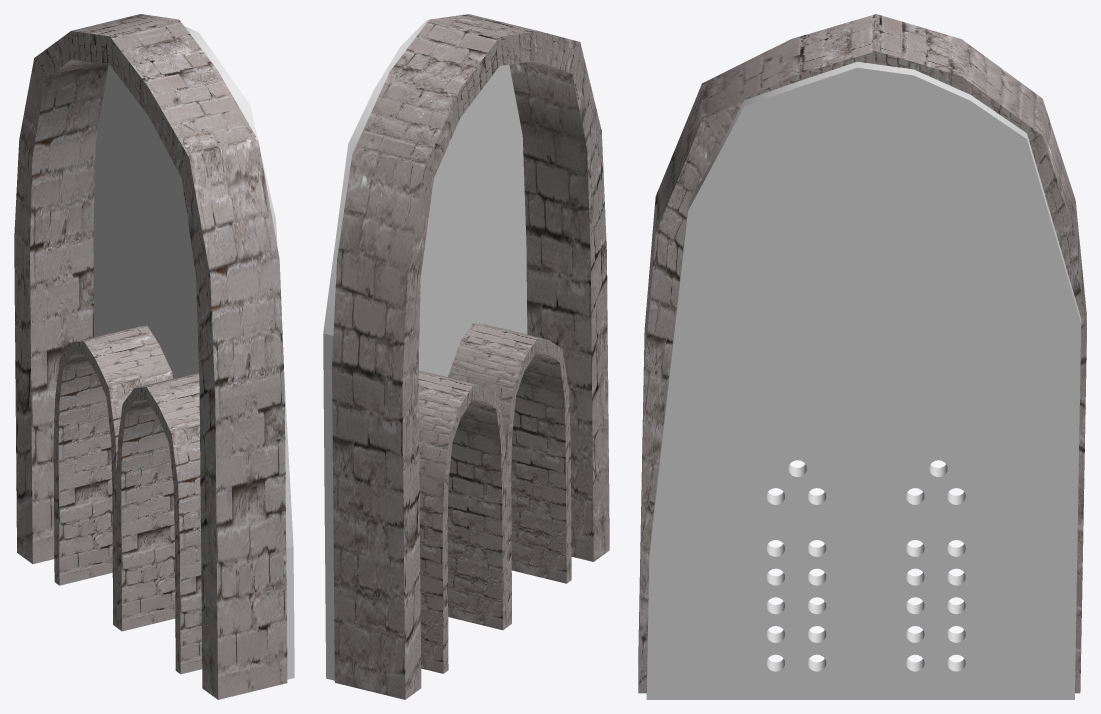
Rendered from Byzantines.FBX.
3 renders of one model, left to right at view 1: azimuth 30°, elevation 25°; view 2: azimuth 150°, elevation 25°; view 3: azimuth 270°, elevation 25°, orthographic. The views are drawn at different scales.
Visible parts, largest first — view 1: Roman_Arch001, Box001, Roman_Arch002, Roman_Arch; view 2: Roman_Arch001, Box001, Roman_Arch, Roman_Arch002; view 3: Box001, Roman_Arch001.
Part boxes in pixels (bbox=[...]): Roman_Arch001: bbox=[14, 14, 287, 699]; Box001: bbox=[93, 26, 294, 679]; Roman_Arch002: bbox=[116, 372, 202, 674]; Roman_Arch: bbox=[53, 325, 172, 627]; Roman_Arch001: bbox=[332, 14, 609, 699]; Box001: bbox=[323, 20, 527, 680]; Roman_Arch: bbox=[418, 370, 507, 673]; Roman_Arch002: bbox=[448, 323, 571, 626]; Box001: bbox=[646, 61, 1081, 699]; Roman_Arch001: bbox=[638, 14, 1086, 693].
Size of the model in its own units: 27.71 by 193 by 122.
Materials: 1 (1 with a texture image).
